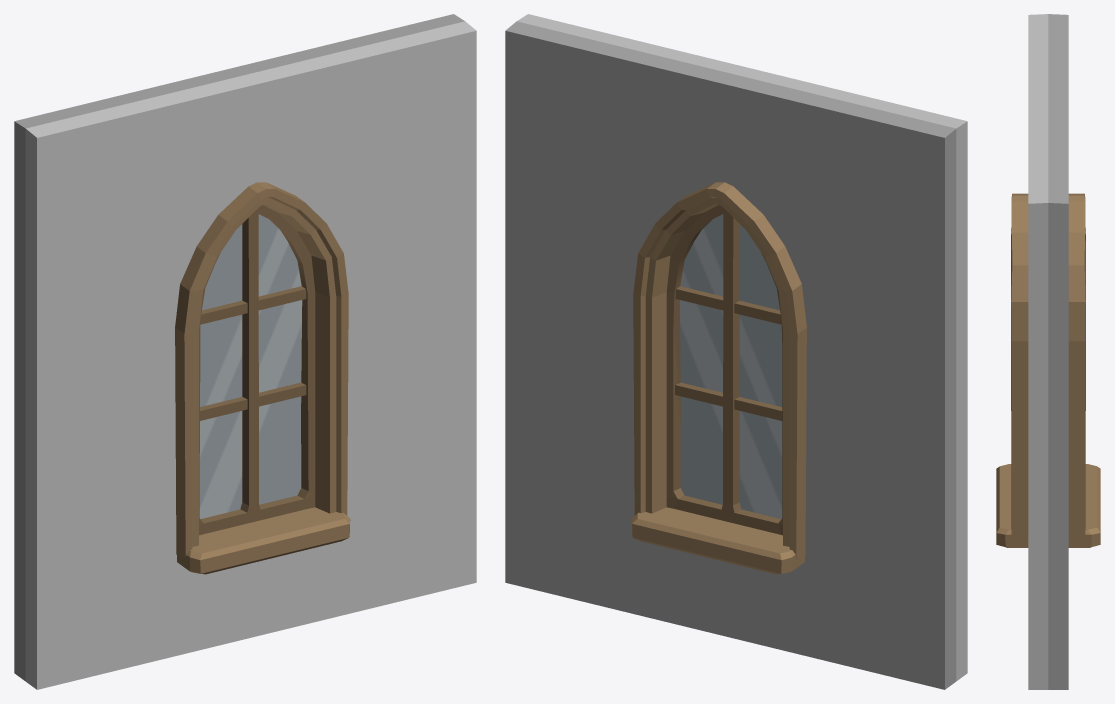
The model's file is SM_Bld_Wall_Manor_Window_01.fbx.
3 renders of one model, left to right at view 1: azimuth 30°, elevation 25°; view 2: azimuth 150°, elevation 25°; view 3: azimuth 270°, elevation 25°, orthographic. The views are drawn at different scales.
Parts seen in each view (by area): view 1: SM_Bld_Wall_Manor_Window_01; view 2: SM_Bld_Wall_Manor_Window_01; view 3: SM_Bld_Wall_Manor_Window_01.
Part boxes in pixels (left/top/right/bottom): SM_Bld_Wall_Manor_Window_01: left=14, top=14, right=476, bottom=689; SM_Bld_Wall_Manor_Window_01: left=505, top=14, right=967, bottom=689; SM_Bld_Wall_Manor_Window_01: left=996, top=14, right=1100, bottom=689.
Size of the model in its own units: 250 by 301 by 58.23.
